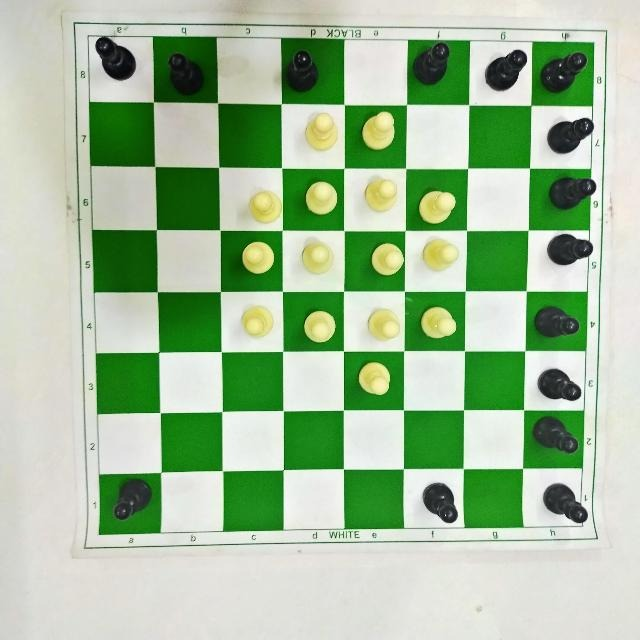black-pawn: (91, 34, 149, 88), (477, 43, 531, 95), (544, 114, 602, 162), (164, 49, 216, 101), (283, 46, 335, 98), (540, 48, 592, 99), (415, 479, 466, 531), (538, 480, 594, 527), (543, 175, 604, 217), (542, 230, 600, 274), (111, 476, 161, 526), (533, 297, 589, 341), (411, 40, 458, 92), (534, 363, 586, 410), (527, 417, 582, 461)
white-pawn: (364, 233, 410, 288), (355, 170, 406, 217), (356, 108, 404, 157), (245, 184, 294, 232), (301, 175, 348, 223), (414, 186, 462, 232), (296, 238, 343, 284), (304, 106, 346, 156), (416, 237, 465, 279), (360, 302, 405, 346), (417, 303, 463, 345), (236, 299, 280, 342), (298, 306, 342, 348), (239, 241, 281, 281), (354, 360, 394, 402)
